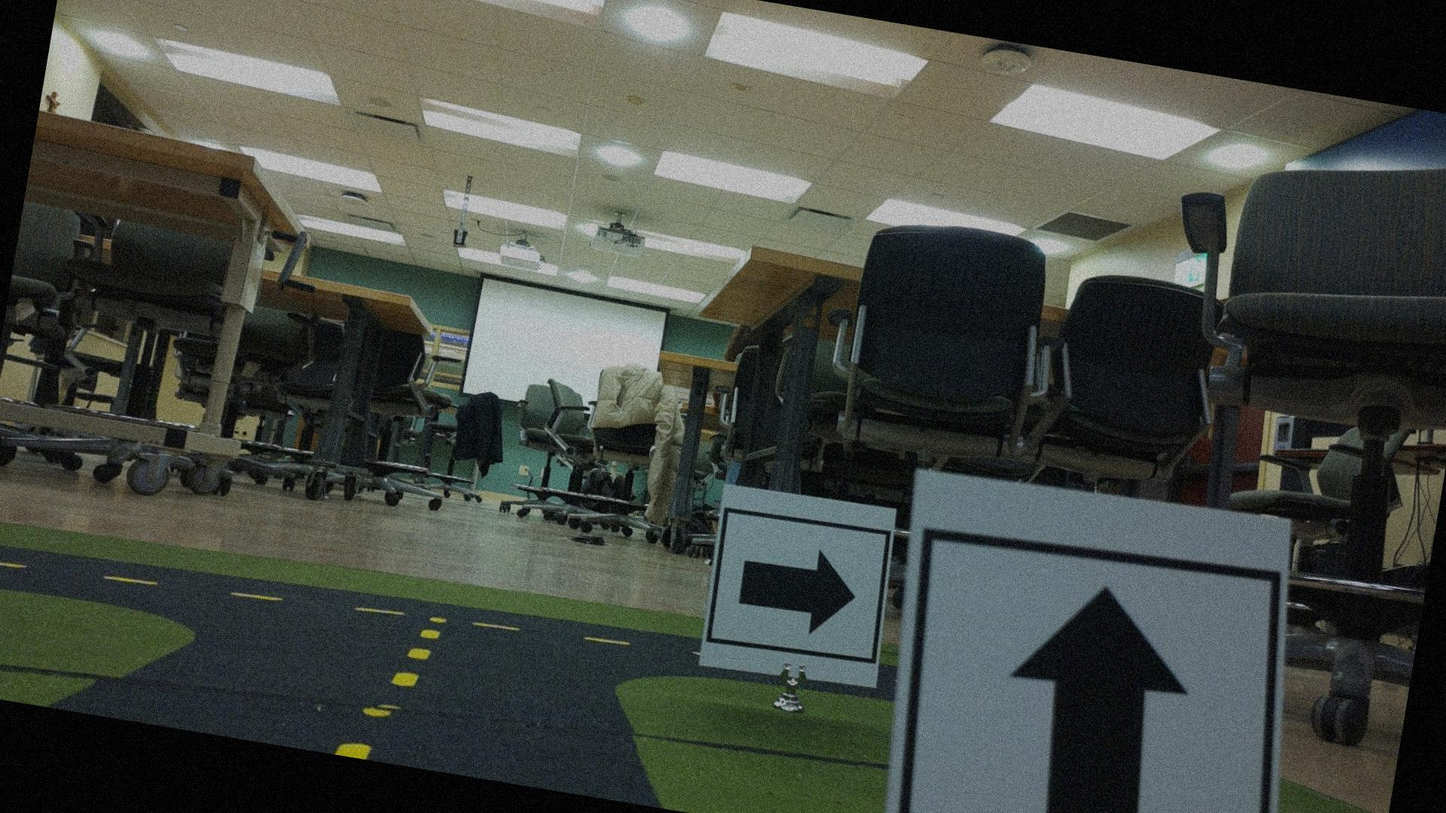gostraight: (884, 480, 1286, 812)
turnleft: (692, 487, 893, 692)
yellowline: (337, 615, 441, 765)
